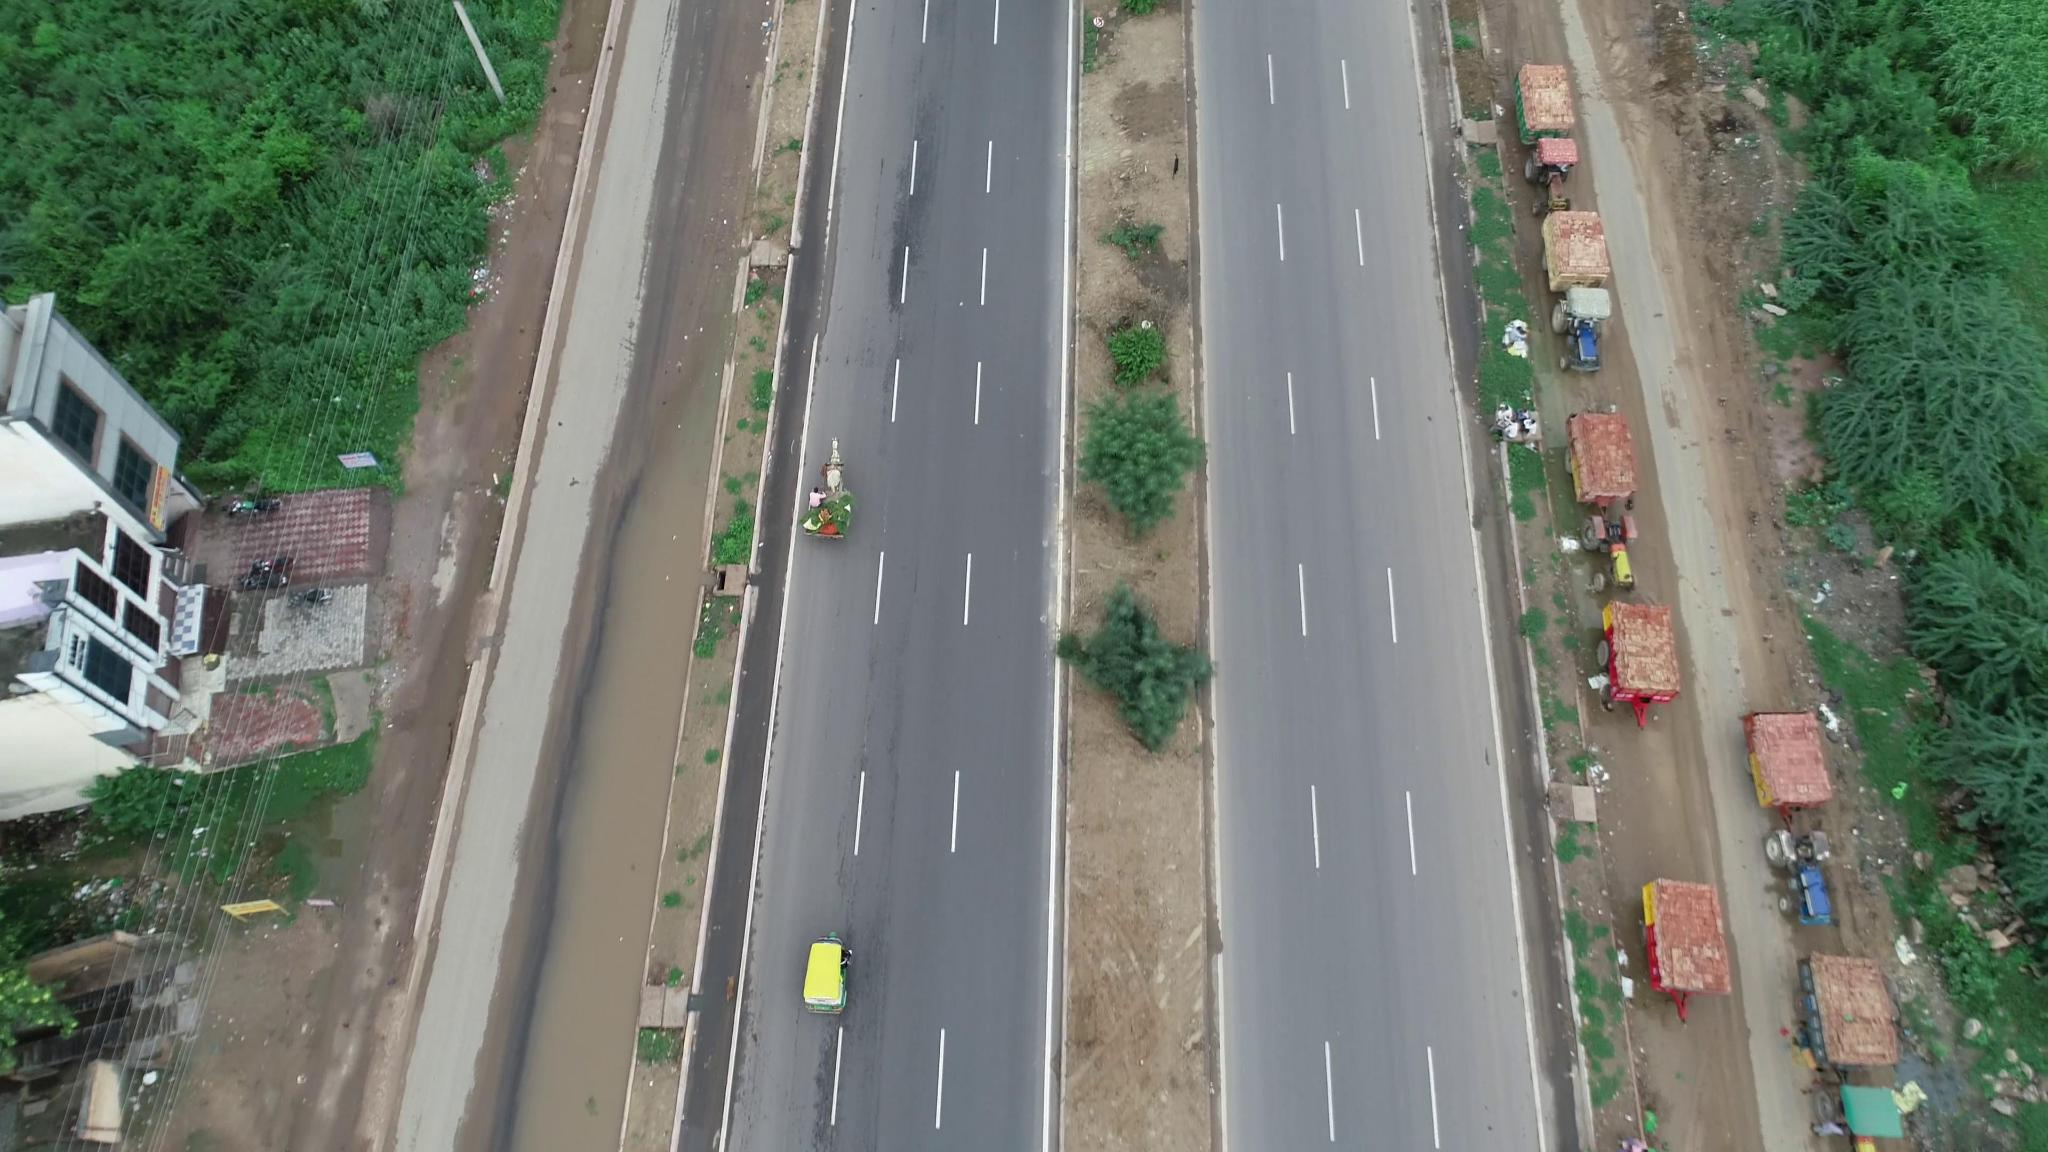Waterlogging: (563, 405, 716, 791), (489, 805, 657, 1139)
